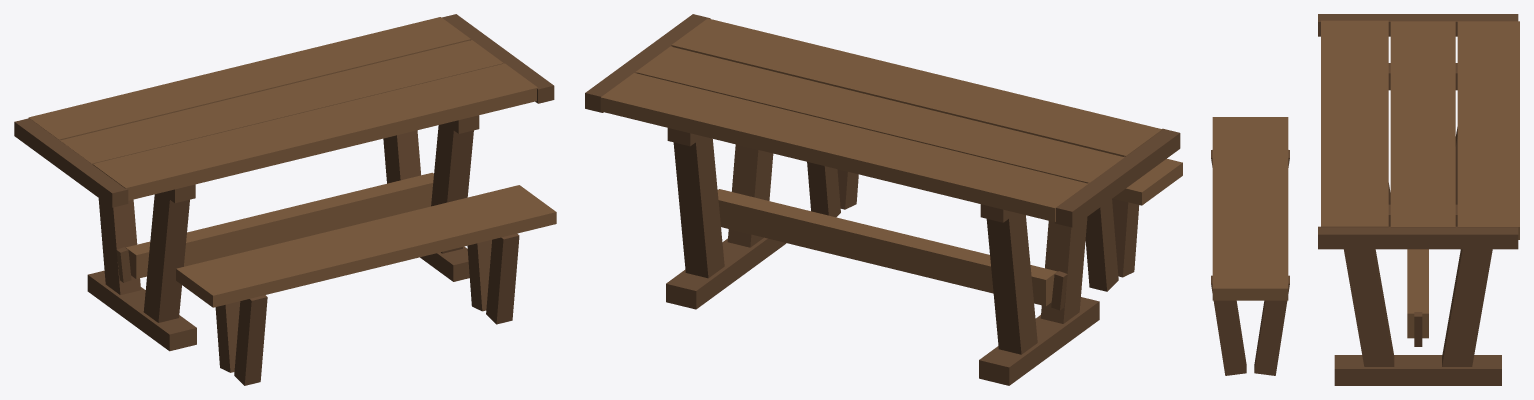
Rendered from SM_Furn_TrestleTable_01.glb.
3 renders of one model, left to right at view 1: azimuth 30°, elevation 25°; view 2: azimuth 150°, elevation 25°; view 3: azimuth 270°, elevation 25°, orthographic. The views are drawn at different scales.
Parts seen in each view (by area): view 1: SM_Furn_TrestleTable_01_TopPlank0, SM_Furn_TrestleTable_01_BenchTop, SM_Furn_TrestleTable_01_TopPlank1, SM_Furn_TrestleTable_01_TopPlank2, SM_Furn_TrestleTable_01_Stretcher, SM_Furn_TrestleTable_01_Leg00, SM_Furn_TrestleTable_01_EndCap-1, SM_Furn_TrestleTable_01_Foot0, SM_Furn_TrestleTable_01_Leg10, SM_Furn_TrestleTable_01_Leg01, SM_Furn_TrestleTable_01_BenchLeg10, SM_Furn_TrestleTable_01_BenchLeg00 (+5 smaller); view 2: SM_Furn_TrestleTable_01_TopPlank2, SM_Furn_TrestleTable_01_TopPlank0, SM_Furn_TrestleTable_01_TopPlank1, SM_Furn_TrestleTable_01_Stretcher, SM_Furn_TrestleTable_01_Leg11, SM_Furn_TrestleTable_01_Leg01, SM_Furn_TrestleTable_01_EndCap-1, SM_Furn_TrestleTable_01_Foot0, SM_Furn_TrestleTable_01_Foot1, SM_Furn_TrestleTable_01_Leg00, SM_Furn_TrestleTable_01_BenchLeg01, SM_Furn_TrestleTable_01_Leg10 (+6 smaller); view 3: SM_Furn_TrestleTable_01_BenchTop, SM_Furn_TrestleTable_01_TopPlank0, SM_Furn_TrestleTable_01_TopPlank1, SM_Furn_TrestleTable_01_TopPlank2, SM_Furn_TrestleTable_01_EndCap1, SM_Furn_TrestleTable_01_Foot1, SM_Furn_TrestleTable_01_Leg10, SM_Furn_TrestleTable_01_Leg11, SM_Furn_TrestleTable_01_BenchLeg11, SM_Furn_TrestleTable_01_BenchLeg10, SM_Furn_TrestleTable_01_Stretcher, SM_Furn_TrestleTable_01_EndCap-1 (+1 smaller).
Part boxes in pixels (x1=…): SM_Furn_TrestleTable_01_TopPlank0: x1=92, y1=63, x2=537, y2=200; SM_Furn_TrestleTable_01_BenchTop: x1=176, y1=185, x2=556, y2=307; SM_Furn_TrestleTable_01_TopPlank1: x1=60, y1=40, x2=503, y2=163; SM_Furn_TrestleTable_01_TopPlank2: x1=28, y1=17, x2=470, y2=139; SM_Furn_TrestleTable_01_Stretcher: x1=125, y1=172, x2=433, y2=278; SM_Furn_TrestleTable_01_Leg00: x1=143, y1=192, x2=189, y2=322; SM_Furn_TrestleTable_01_EndCap-1: x1=14, y1=118, x2=128, y2=207; SM_Furn_TrestleTable_01_Foot0: x1=87, y1=270, x2=196, y2=351; SM_Furn_TrestleTable_01_Leg10: x1=431, y1=121, x2=473, y2=253; SM_Furn_TrestleTable_01_Leg01: x1=98, y1=198, x2=140, y2=295; SM_Furn_TrestleTable_01_BenchLeg10: x1=486, y1=233, x2=519, y2=324; SM_Furn_TrestleTable_01_BenchLeg00: x1=234, y1=295, x2=267, y2=385; SM_Furn_TrestleTable_01_TopPlank2: x1=600, y1=73, x2=1088, y2=221; SM_Furn_TrestleTable_01_TopPlank0: x1=671, y1=18, x2=1162, y2=156; SM_Furn_TrestleTable_01_TopPlank1: x1=635, y1=46, x2=1124, y2=183; SM_Furn_TrestleTable_01_Stretcher: x1=717, y1=189, x2=1057, y2=306; SM_Furn_TrestleTable_01_Leg11: x1=673, y1=134, x2=724, y2=278; SM_Furn_TrestleTable_01_Leg01: x1=986, y1=211, x2=1037, y2=354; SM_Furn_TrestleTable_01_EndCap-1: x1=1054, y1=128, x2=1180, y2=227; SM_Furn_TrestleTable_01_Foot0: x1=979, y1=297, x2=1099, y2=385; SM_Furn_TrestleTable_01_Foot1: x1=666, y1=237, x2=786, y2=309; SM_Furn_TrestleTable_01_Leg00: x1=1040, y1=217, x2=1087, y2=323; SM_Furn_TrestleTable_01_BenchLeg01: x1=1085, y1=199, x2=1118, y2=291; SM_Furn_TrestleTable_01_Leg10: x1=727, y1=144, x2=773, y2=247; SM_Furn_TrestleTable_01_BenchTop: x1=1212, y1=117, x2=1288, y2=300; SM_Furn_TrestleTable_01_TopPlank0: x1=1321, y1=20, x2=1388, y2=227; SM_Furn_TrestleTable_01_TopPlank1: x1=1390, y1=21, x2=1455, y2=227; SM_Furn_TrestleTable_01_TopPlank2: x1=1457, y1=21, x2=1519, y2=239; SM_Furn_TrestleTable_01_EndCap1: x1=1318, y1=226, x2=1518, y2=249; SM_Furn_TrestleTable_01_Foot1: x1=1334, y1=355, x2=1501, y2=385; SM_Furn_TrestleTable_01_Leg10: x1=1344, y1=249, x2=1394, y2=366; SM_Furn_TrestleTable_01_Leg11: x1=1442, y1=249, x2=1492, y2=366; SM_Furn_TrestleTable_01_BenchLeg11: x1=1254, y1=275, x2=1289, y2=375; SM_Furn_TrestleTable_01_BenchLeg10: x1=1211, y1=275, x2=1246, y2=375; SM_Furn_TrestleTable_01_Stretcher: x1=1407, y1=249, x2=1428, y2=338; SM_Furn_TrestleTable_01_EndCap-1: x1=1318, y1=14, x2=1518, y2=36.
Bounding box in the file's own units: 1.93 × 0.7563 × 1.14.
